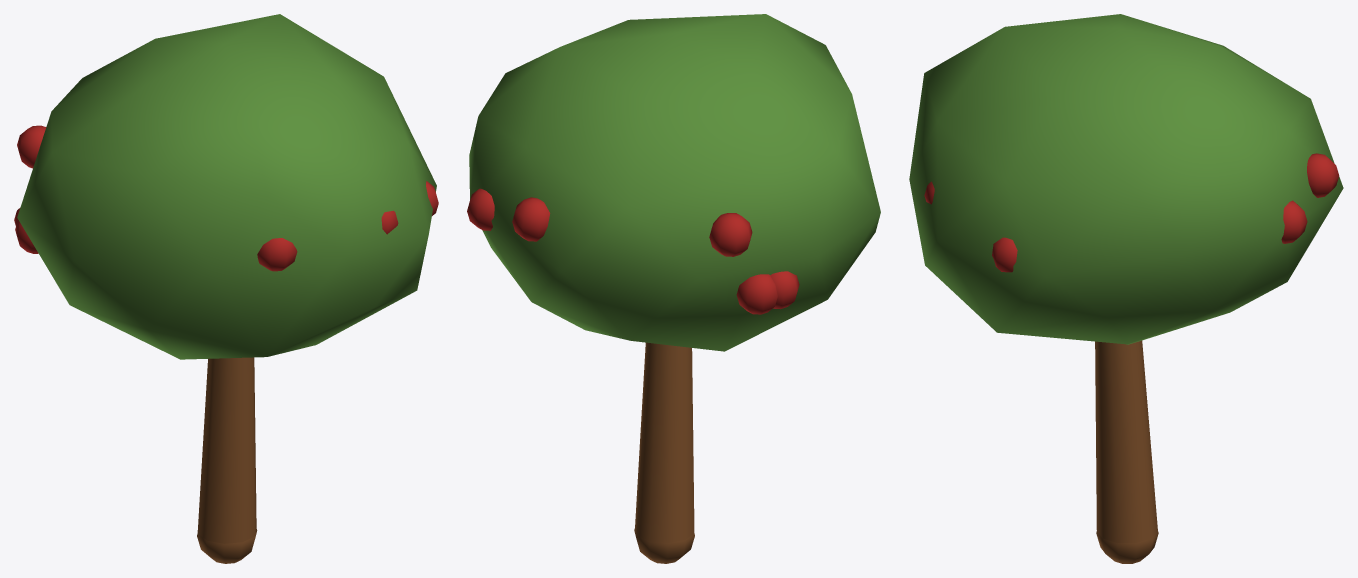
File: tree_c.fbx
The picture shows the model from 3 angles, left to right: view 1: azimuth 30°, elevation 25°; view 2: azimuth 150°, elevation 25°; view 3: azimuth 270°, elevation 25°; orthographic projection.
Visible parts, largest first — view 1: tree_c; view 2: tree_c; view 3: tree_c.
Boxes of the visible parts, x1,y1,x2,y2 form: tree_c: (14, 14, 438, 563); tree_c: (467, 14, 880, 563); tree_c: (909, 14, 1343, 563).
Bounding box in the file's own units: 2.02 × 2.86 × 2.13.
